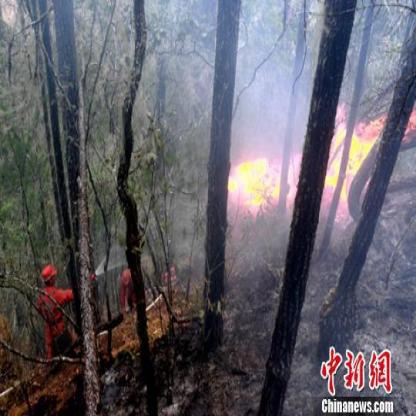fire: (326, 102, 386, 214), (227, 153, 302, 214), (404, 103, 414, 131)
other: (311, 327, 397, 407), (34, 254, 84, 360), (113, 255, 139, 317), (0, 0, 17, 20)
